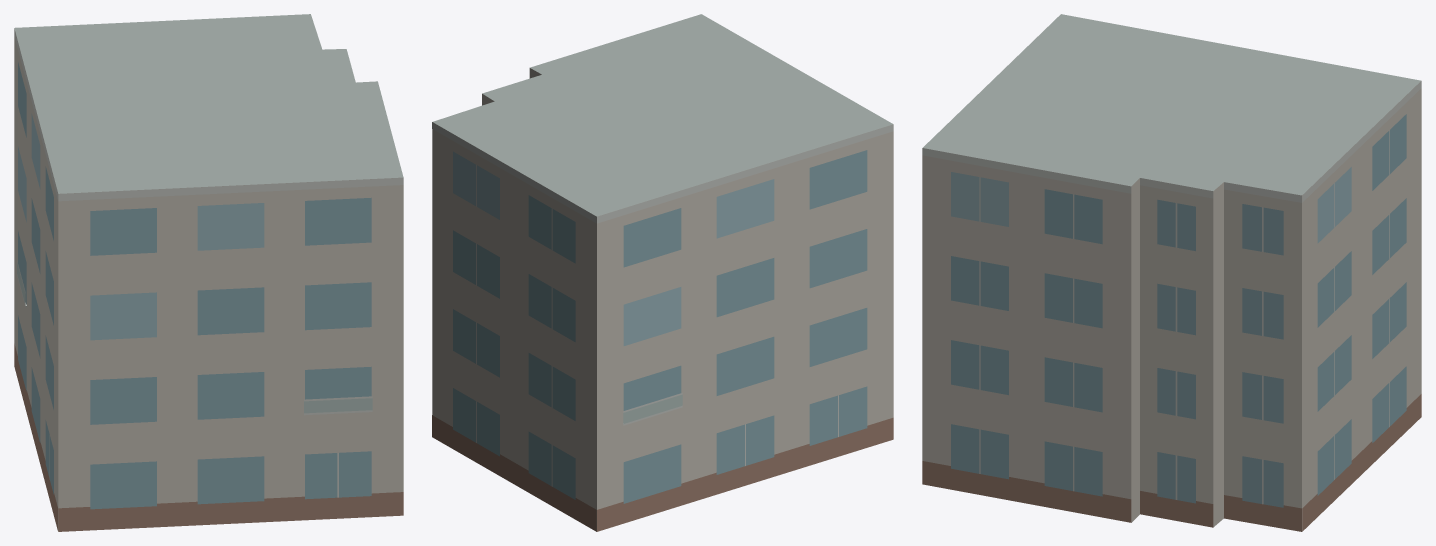
Rendered from survey-upis-32532841.glb.
The picture shows the model from 3 angles, left to right: view 1: azimuth 30°, elevation 25°; view 2: azimuth 150°, elevation 25°; view 3: azimuth 270°, elevation 25°; orthographic projection. The views are drawn at different scales.
Visible parts, largest first — view 1: survey-upis-32532841.tmp; view 2: survey-upis-32532841.tmp; view 3: survey-upis-32532841.tmp.
Boxes of the visible parts, x1,y1,x2,y2 form: survey-upis-32532841.tmp: [14, 14, 403, 531]; survey-upis-32532841.tmp: [432, 14, 893, 531]; survey-upis-32532841.tmp: [922, 14, 1421, 531].
Bounding box in the file's own units: 12.79 × 11.05 × 14.87.
